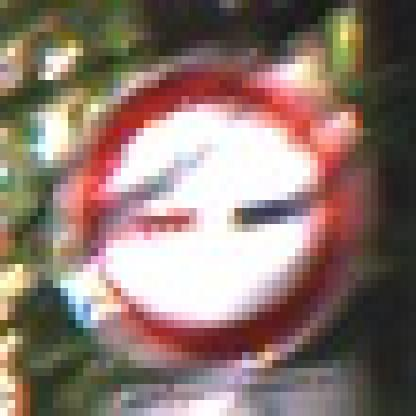No Overtaking: (47, 49, 372, 377)
